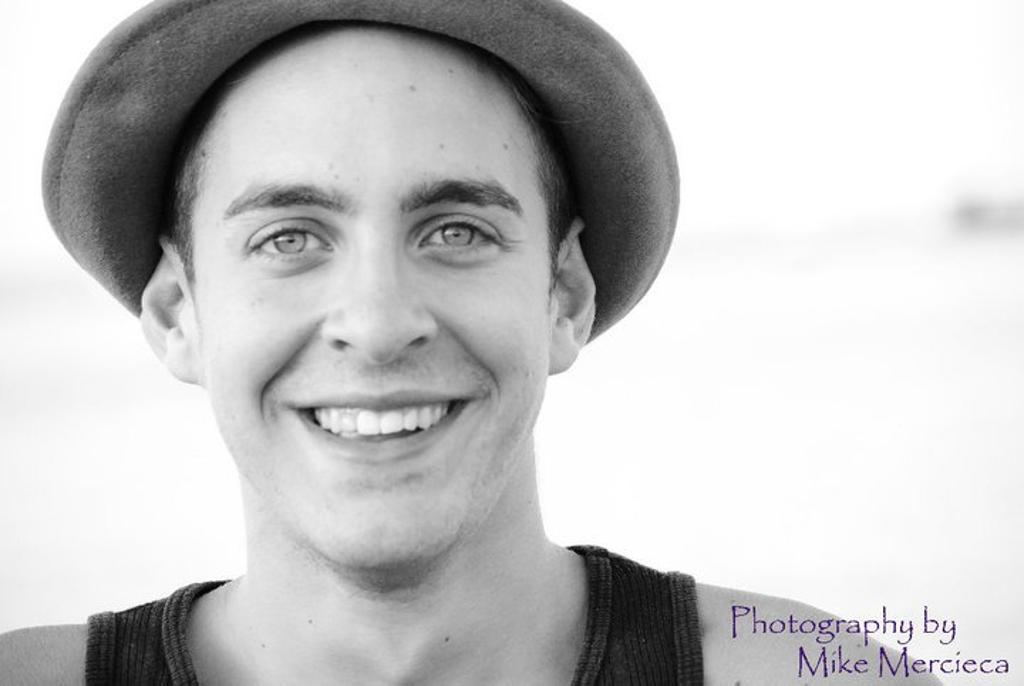face: (188, 24, 550, 568)
